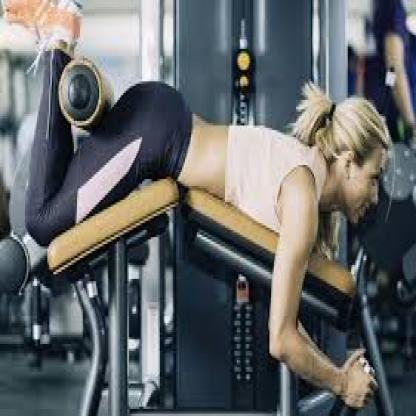reg curl machine: (1, 0, 389, 415)
